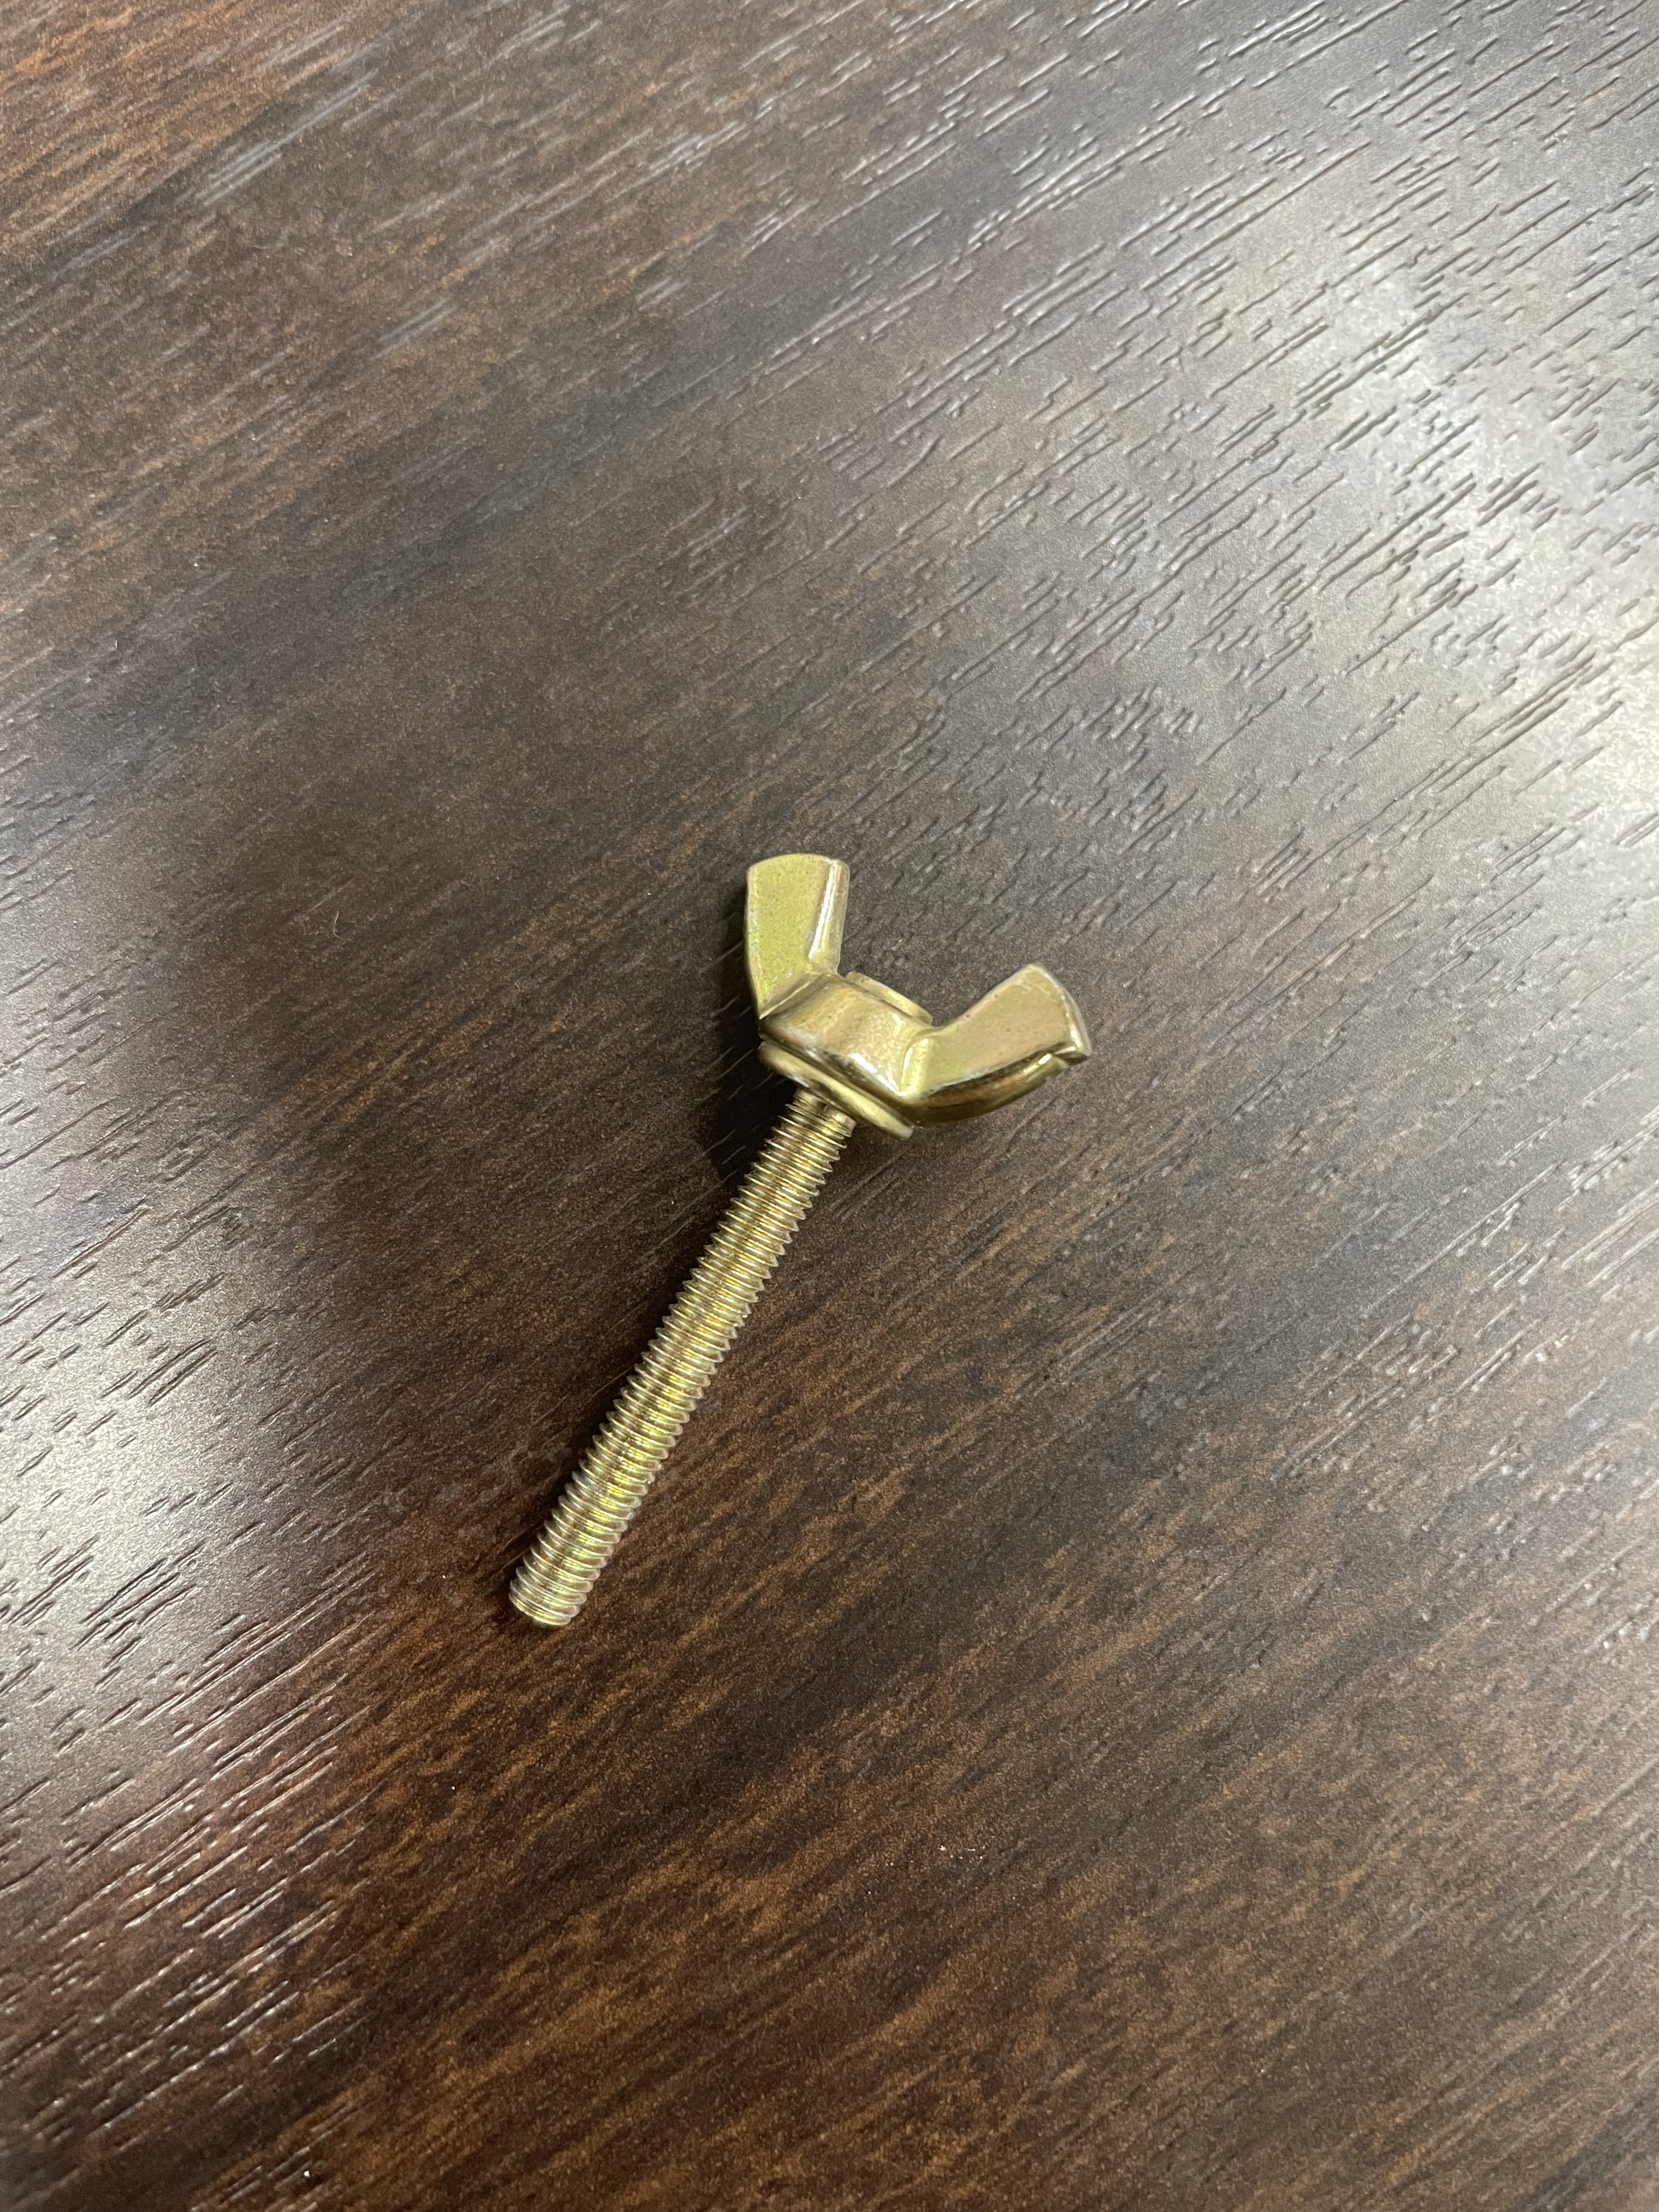screw0: (501, 849, 1096, 1637)
